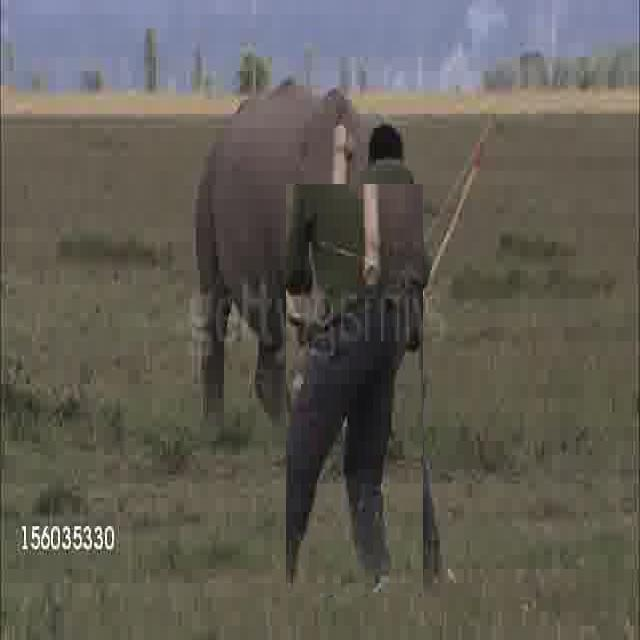poacher: (286, 184, 423, 593)
weapon: (130, 217, 310, 300)
